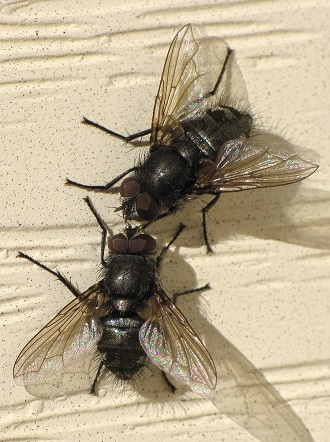house fly: (62, 23, 325, 256), (17, 208, 227, 418)
